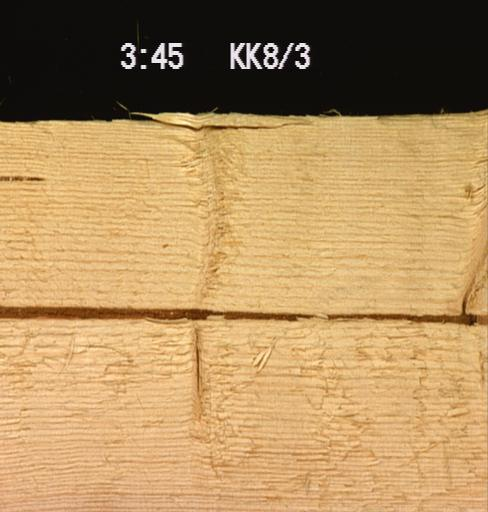split: (130, 110, 315, 133)
